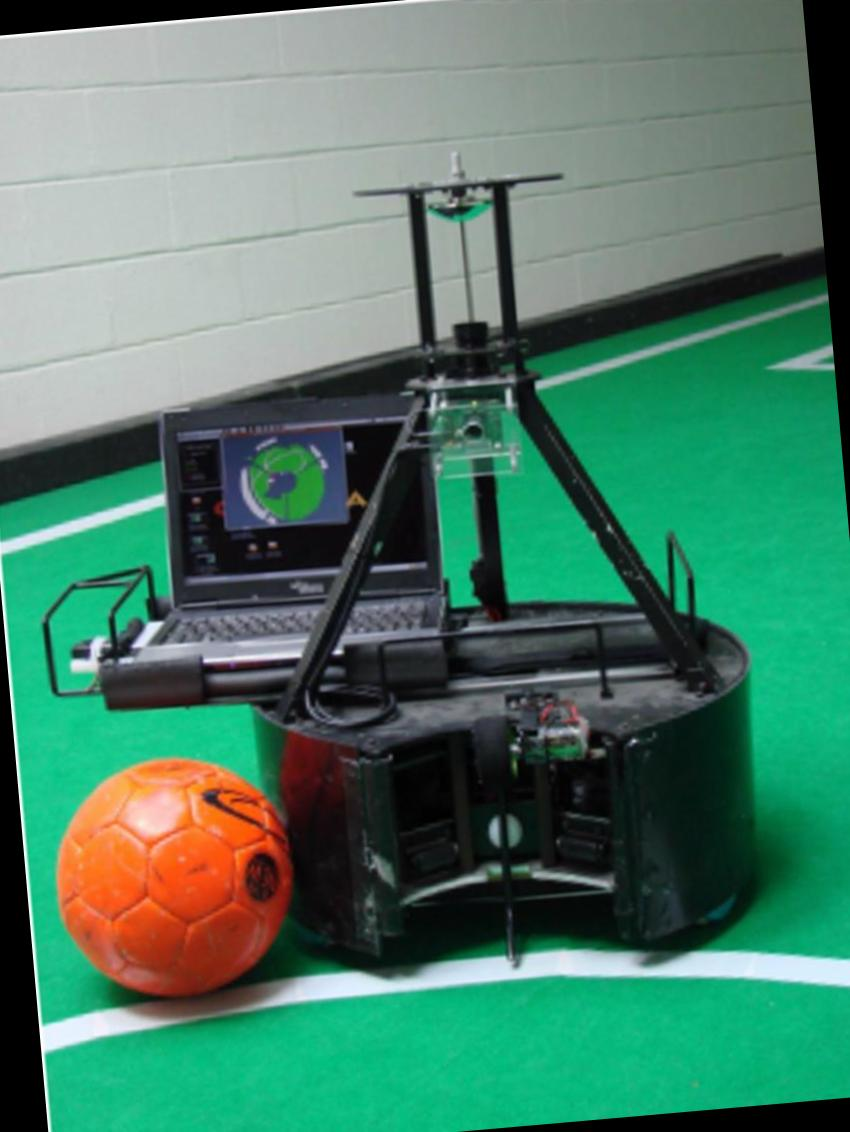ball: (56, 761, 290, 998)
robot: (40, 174, 756, 958)
